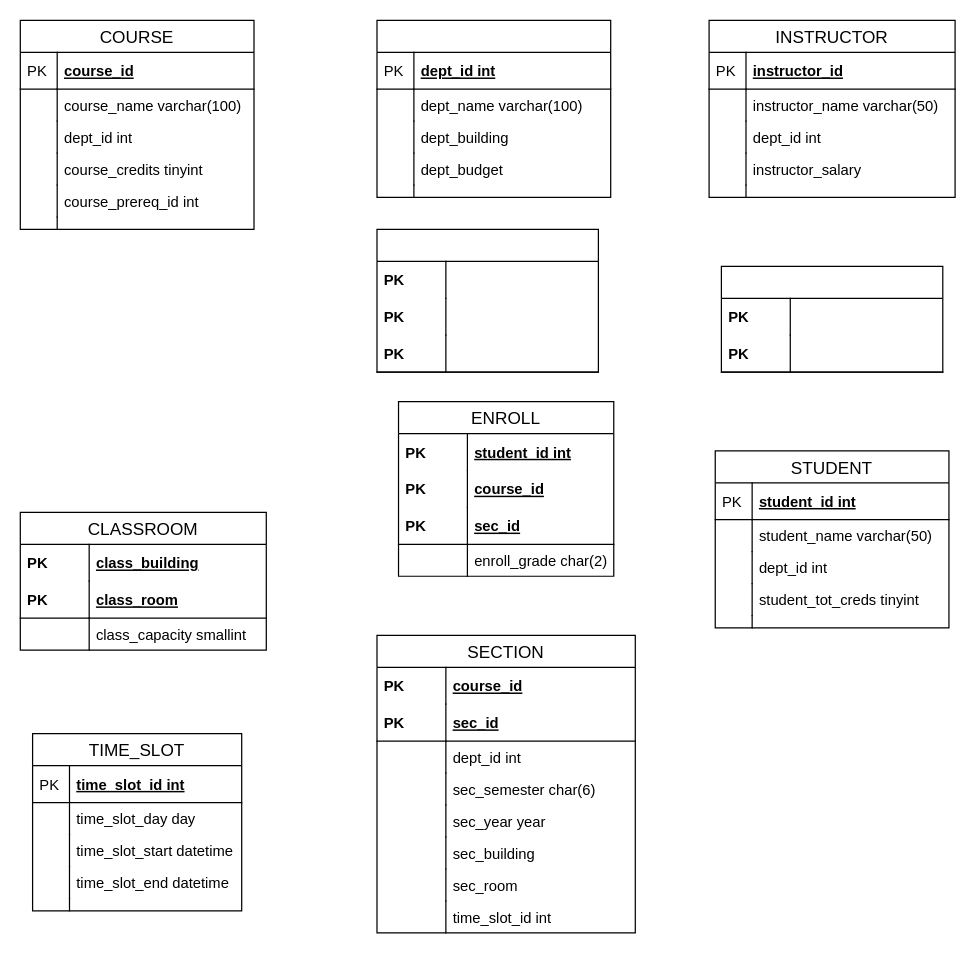
This 975x953 diagram has some shape labels left out. The shapes that lost their labels are listed below. From the top down, each one's box as (x1, y1, x2, y2) in pixels, then its label:
(376, 19, 611, 197): DEPARTMENT
(376, 228, 598, 372): TEACHES
(720, 265, 943, 372): ADVISES
